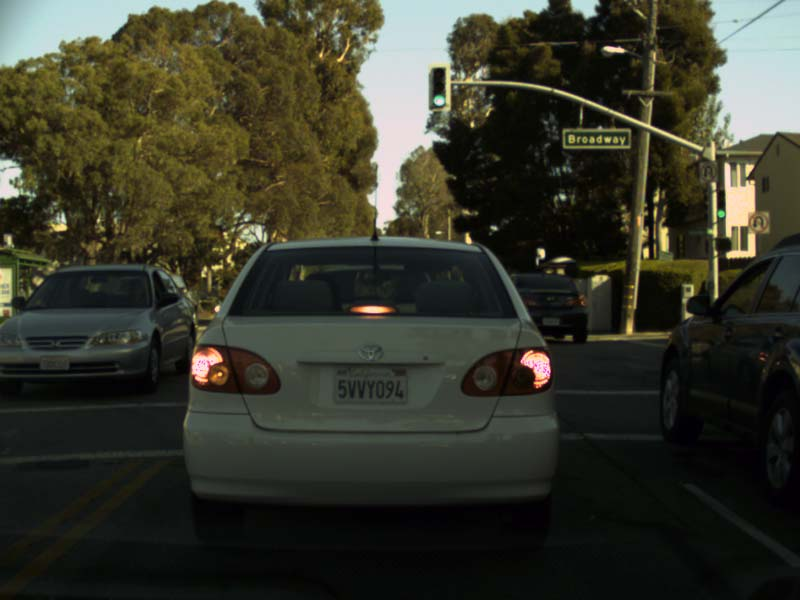Green: (431, 67, 445, 108), (717, 189, 725, 217)
